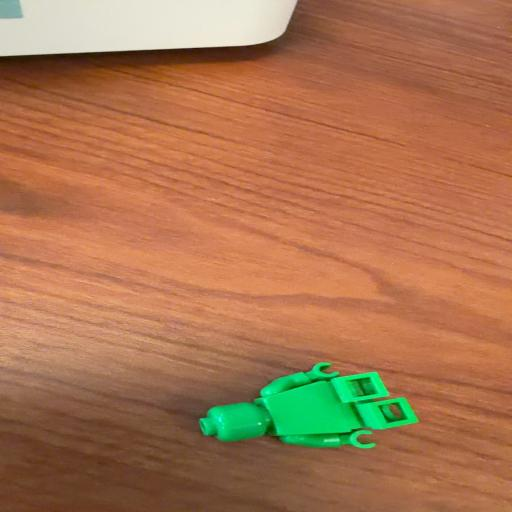UnoQ-minifig-detector: (199, 362, 418, 449)
